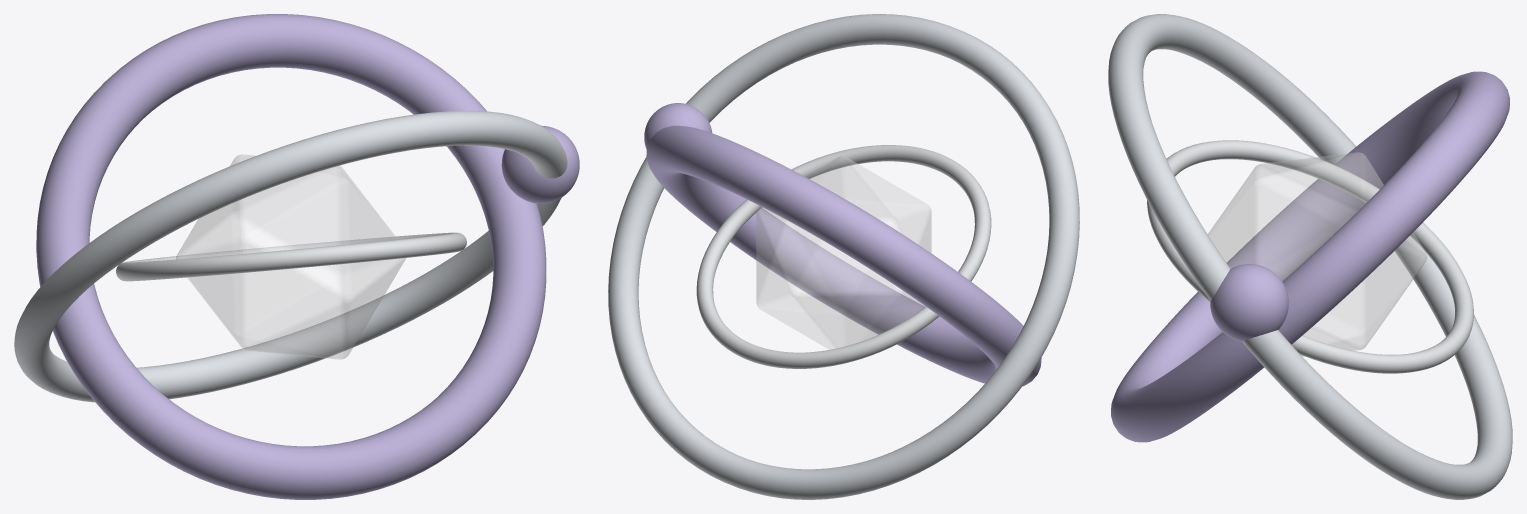
File: stellar-crystal.glb
3 views of the same model, side by side, from view 1: azimuth 30°, elevation 25°; view 2: azimuth 150°, elevation 25°; view 3: azimuth 270°, elevation 25° (orthographic). The views are drawn at different scales.
Visible parts, largest first — view 1: Second orbit, First orbit, Central crystal, Inner meridian, Satellite; view 2: First orbit, Second orbit, Central crystal, Inner meridian, Satellite; view 3: Second orbit, First orbit, Central crystal, Inner meridian, Satellite.
Boxes of the visible parts, x1,y1,x2,y2 form: Second orbit: (36,14,546,499); First orbit: (14,111,567,402); Central crystal: (176,154,405,359); Inner meridian: (116,232,466,281); Satellite: (501,125,579,203); First orbit: (608,14,1079,499); Second orbit: (646,125,1041,386); Central crystal: (756,156,931,349); Inner meridian: (696,145,991,368); Satellite: (644,103,712,149); Second orbit: (1111,71,1509,442); First orbit: (1108,14,1512,499); Central crystal: (1208,152,1426,356); Inner meridian: (1147,140,1473,373); Satellite: (1210,264,1288,341).
Bounding box in the file's own units: 4.35 × 3.32 × 2.99.
